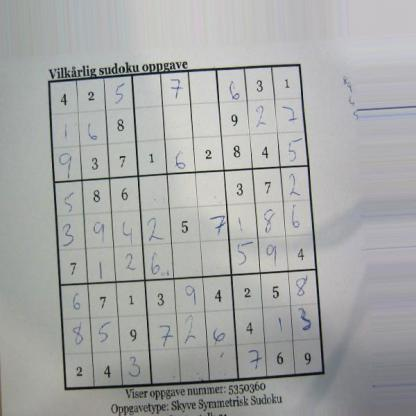sudoku: (46, 61, 329, 392)
